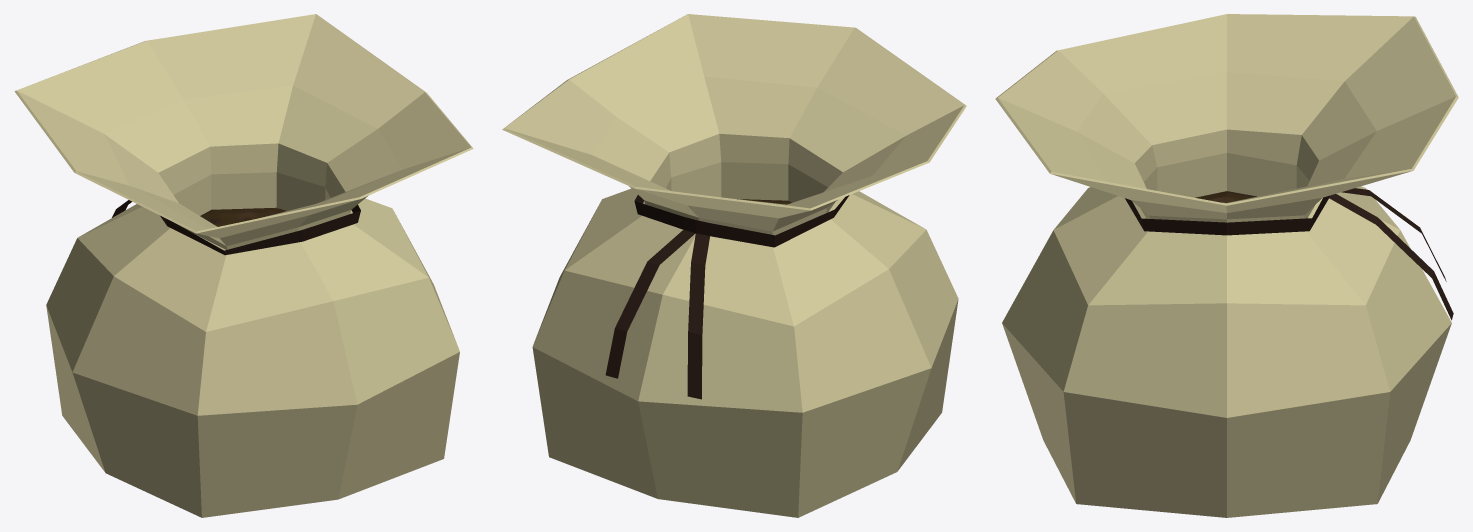
The model's file is SeedBag.fbx.
3 views of the same model, side by side, from view 1: azimuth 30°, elevation 25°; view 2: azimuth 150°, elevation 25°; view 3: azimuth 270°, elevation 25° (orthographic). The views are drawn at different scales.
Parts seen in each view (by area): view 1: Cube.028; view 2: Cube.028; view 3: Cube.028.
Part boxes in pixels (left/top/right/bottom): Cube.028: left=14, top=14, right=473, bottom=517; Cube.028: left=502, top=14, right=966, bottom=517; Cube.028: left=995, top=14, right=1458, bottom=517.
Size of the model in its own units: 12.58 by 11.94 by 12.96.
Materials: 1 (1 with a texture image).
